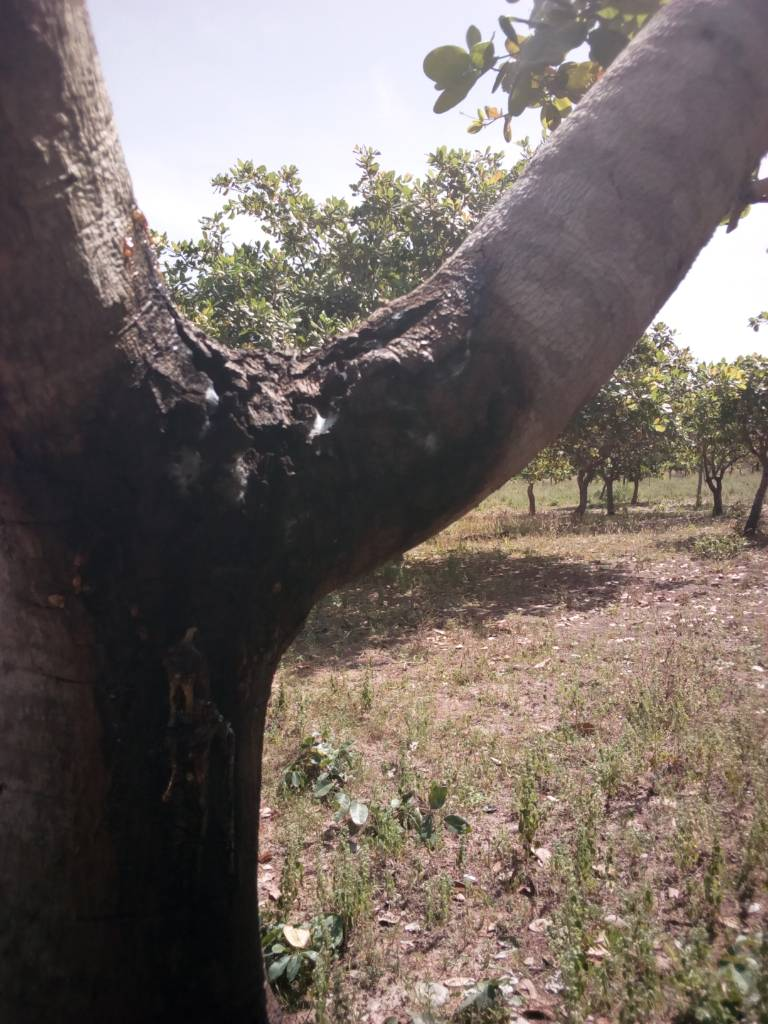Gommose: (50, 335, 250, 1005), (243, 289, 518, 572)
